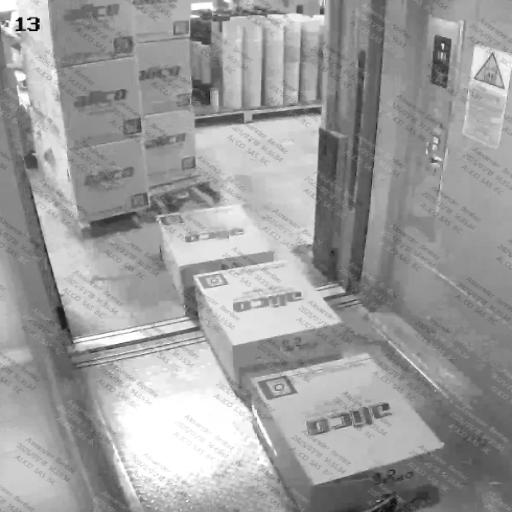Caja caida: (103, 107, 490, 512)
